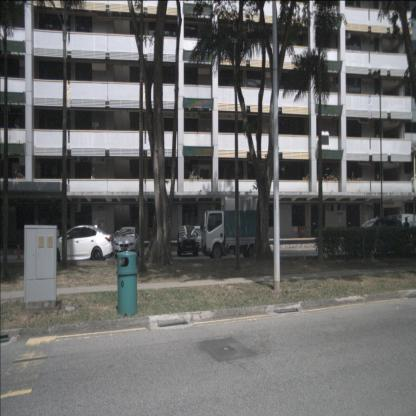human-pedestrian-adult: (403, 216, 410, 250)
movable_object-trafficcone: (16, 245, 22, 259)
vehicle-car: (48, 224, 114, 263), (354, 218, 403, 255), (114, 227, 140, 259), (177, 225, 198, 257), (191, 225, 206, 251), (113, 230, 126, 250)
vehicle-truck: (202, 196, 268, 260)
